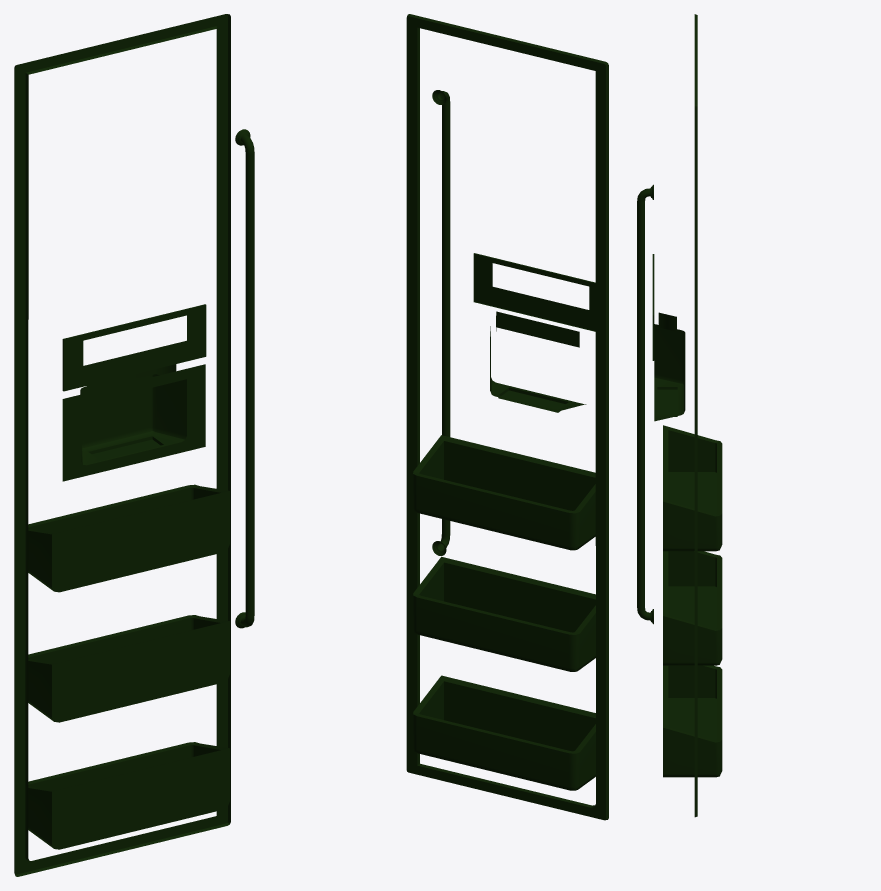
Rendered from Fridge_14_Mesh_2_5.obj.
The picture shows the model from 3 angles, left to right: view 1: azimuth 30°, elevation 25°; view 2: azimuth 150°, elevation 25°; view 3: azimuth 270°, elevation 25°; orthographic projection. The views are drawn at different scales.
Bounding box in the file's own units: 0.5807 × 1.91 × 0.5246.
